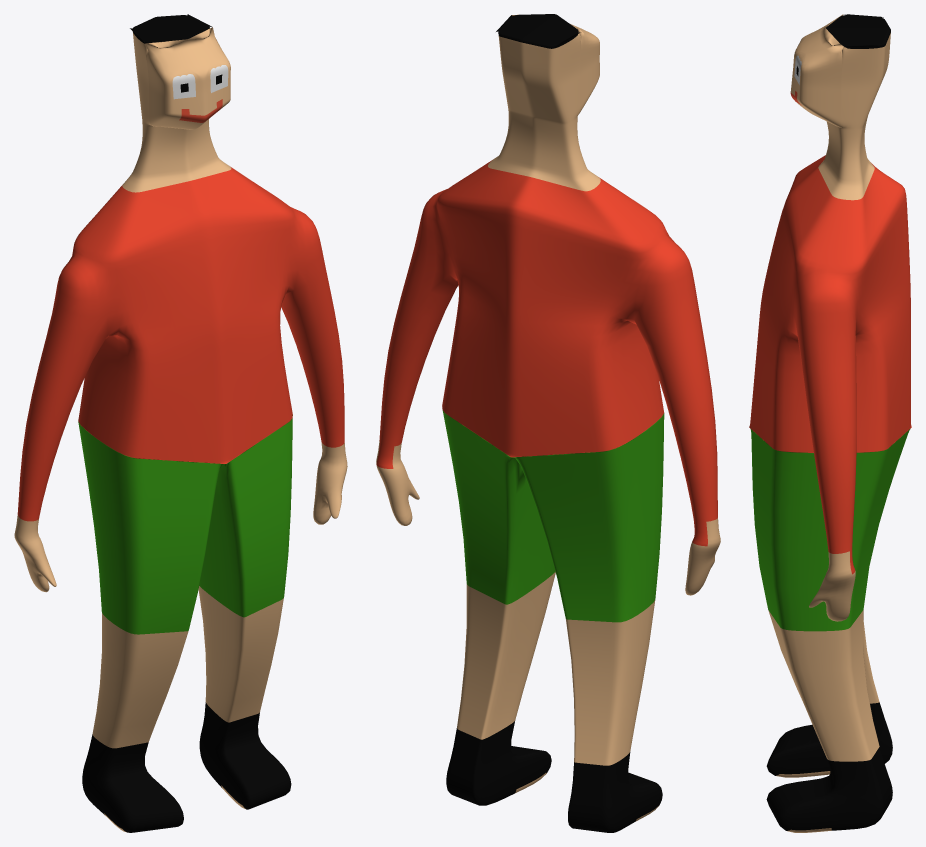
The model's file is basket.fbx.
The picture shows the model from 3 angles, left to right: view 1: azimuth 30°, elevation 25°; view 2: azimuth 150°, elevation 25°; view 3: azimuth 270°, elevation 25°; orthographic projection. The views are drawn at different scales.
Parts seen in each view (by area): view 1: Cube; view 2: Cube; view 3: Cube.
Part boxes in pixels (box(x1,y1,x2,y2)): Cube: box(14, 14, 347, 832); Cube: box(376, 14, 720, 832); Cube: box(749, 14, 911, 832).
Size of the model in its own units: 3.01 by 1.29 by 6.69.
